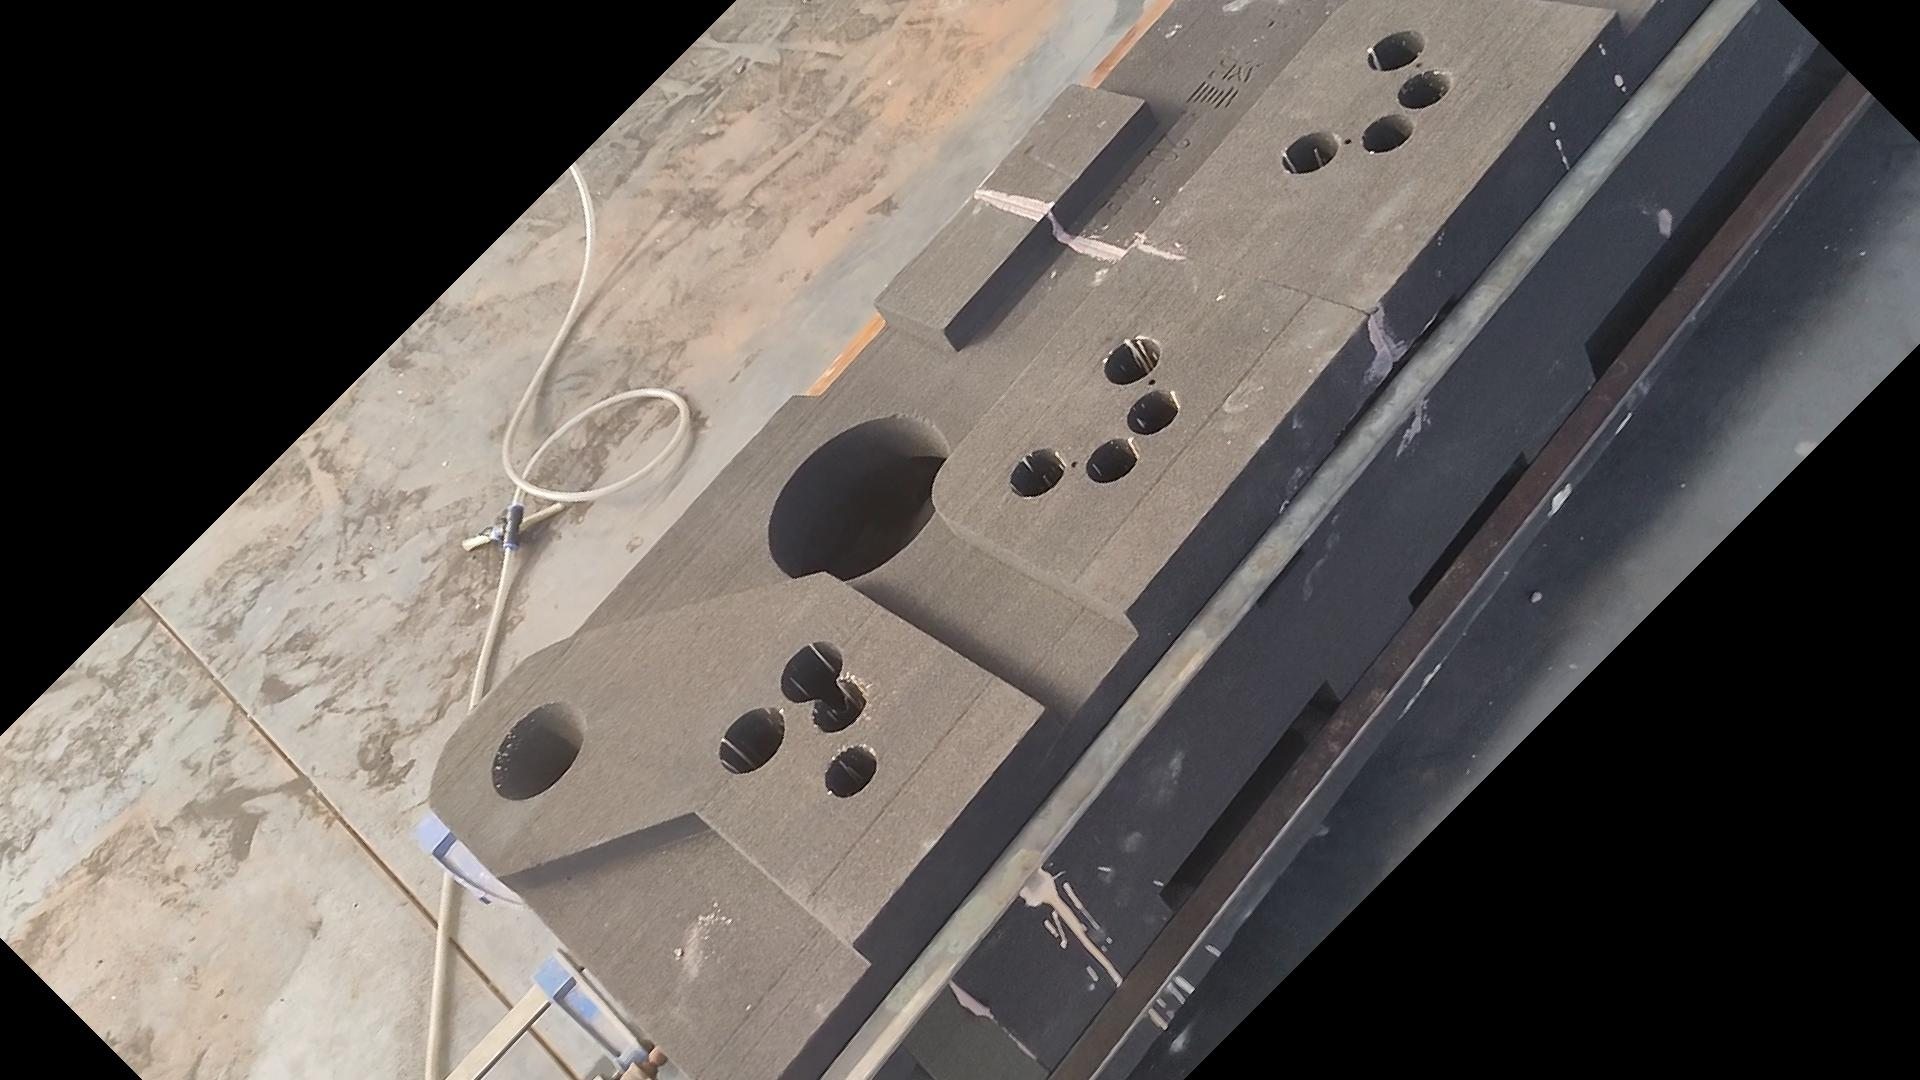pouring hole: (492, 700, 585, 803)
